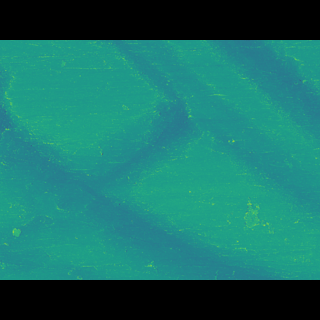Loch: (0, 154, 216, 250), (0, 86, 140, 177), (201, 69, 319, 142)
